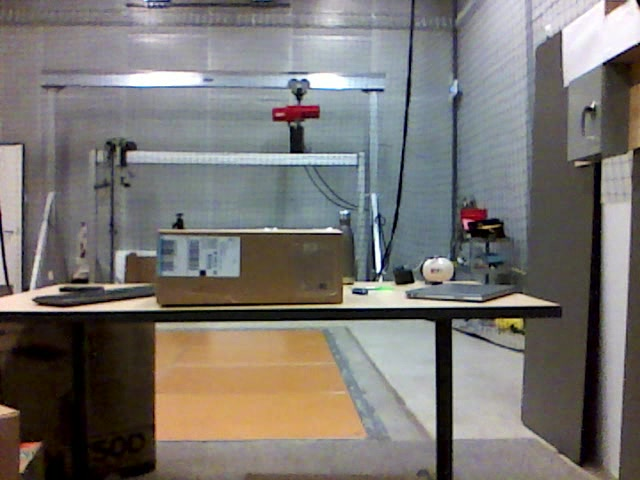box: (1, 327, 159, 480), (157, 229, 343, 306)
